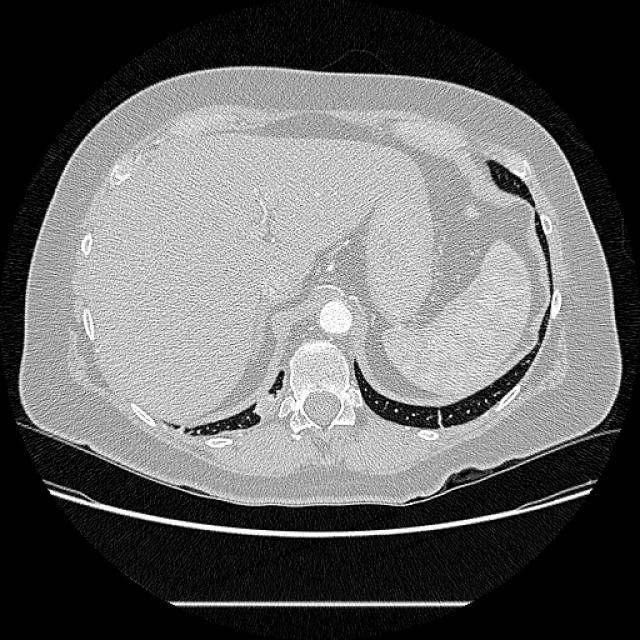nodule: (243, 383, 285, 425)
